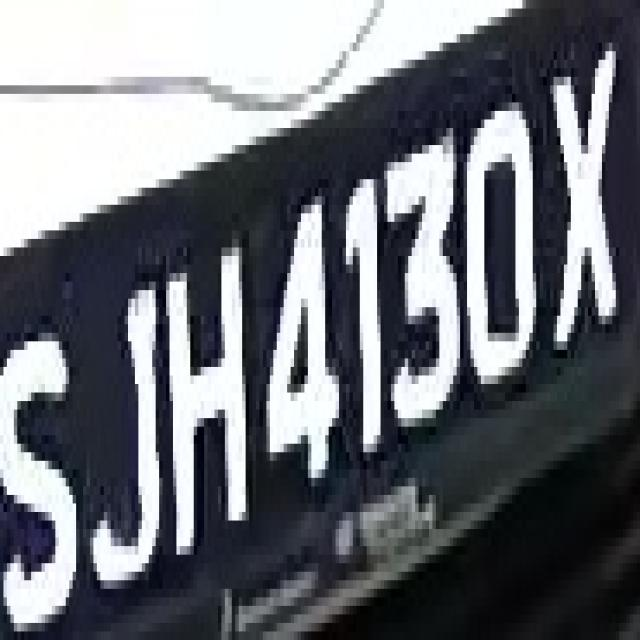0: (450, 103, 543, 418)
1: (332, 136, 394, 486)
3: (377, 102, 460, 461)
4: (245, 162, 342, 521)
H: (163, 239, 249, 589)
J: (69, 247, 166, 589)
S: (7, 299, 83, 614)
X: (540, 43, 626, 350)
